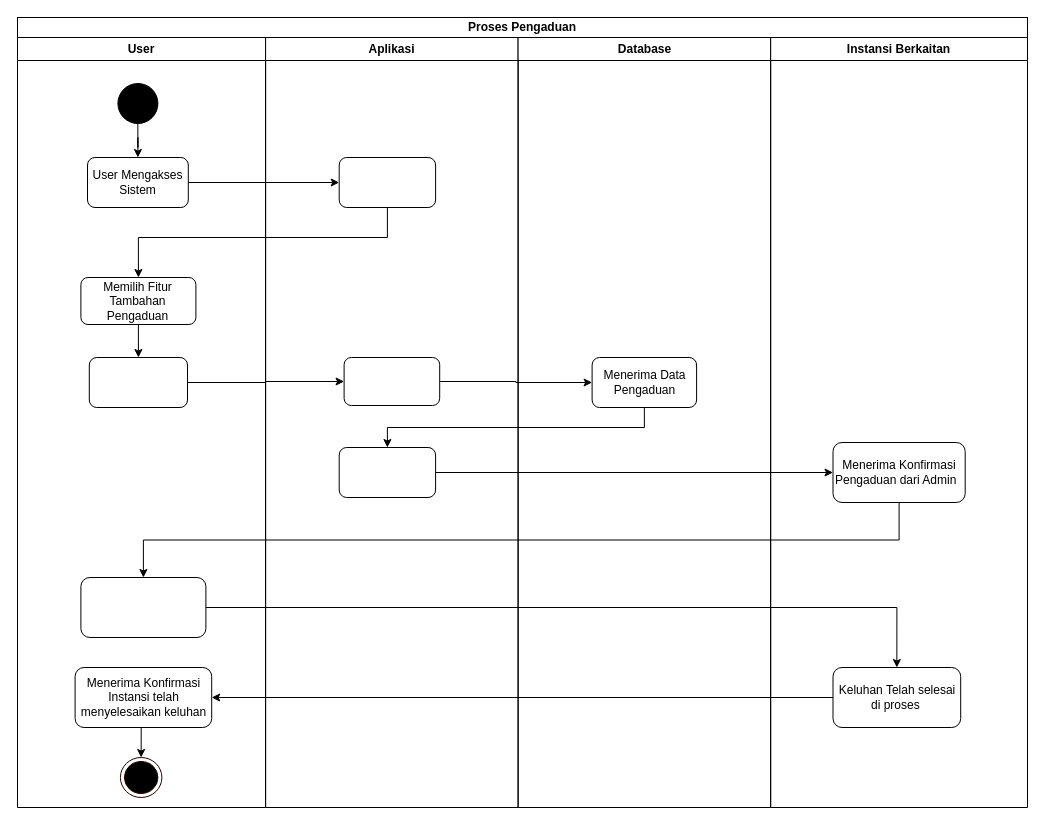
The diagram is 1045 pixels wide and 825 high, and some of its shapes have lost their labels. Each missing label, with the centre of its shape:
"Data Pengaduan" belongs at (x=391, y=381).
"Konfirmasi Data Pengaduan" belongs at (x=387, y=472).
"Menampilkan Menu Beranda" belongs at (x=387, y=182).
"Menerima Konfirmasi Instansi akan Melakukan Eksekusi" belongs at (x=143, y=607).
"Menginput Data Pengaduan" belongs at (x=138, y=382).
